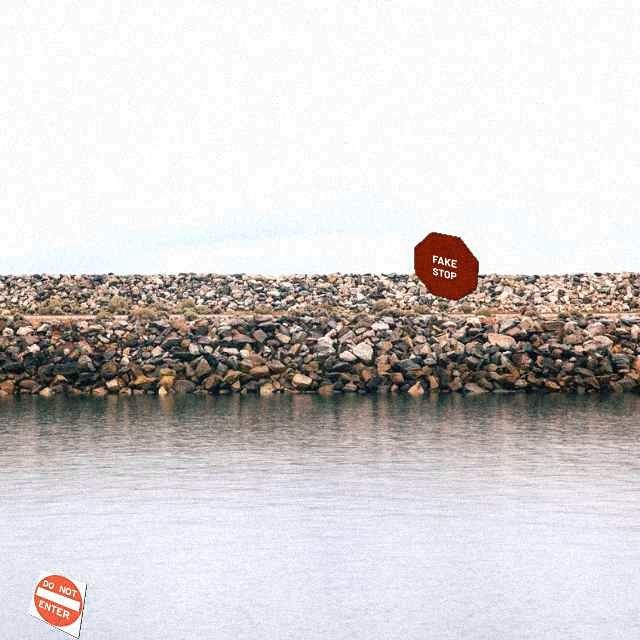DO_NOT_ENTER: (27, 569, 87, 639)
FAKE_STOP: (413, 231, 479, 301)
